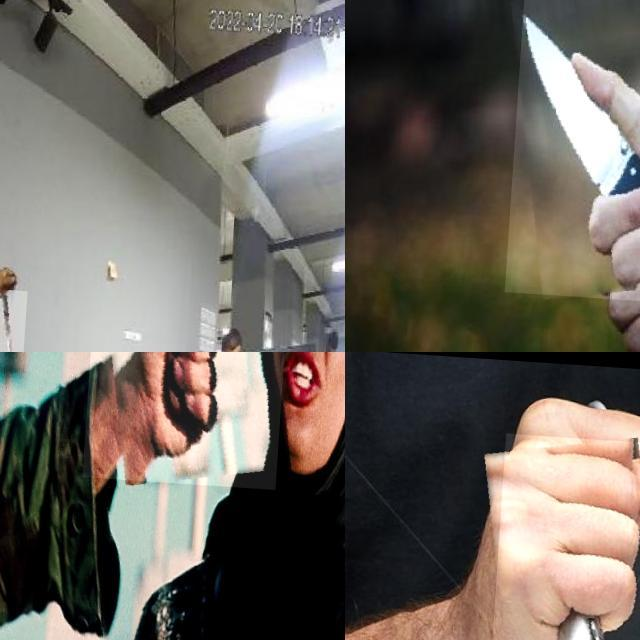-: (510, 0, 640, 299), (482, 429, 640, 640), (0, 285, 32, 352)
gun-knife-thesis - v11 Yolov5 augmented: (87, 352, 299, 530)
